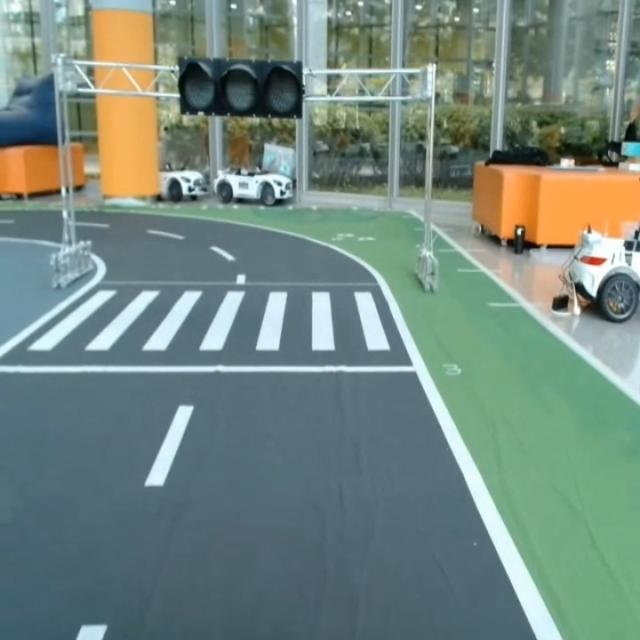traffic-light: (173, 54, 304, 120)
